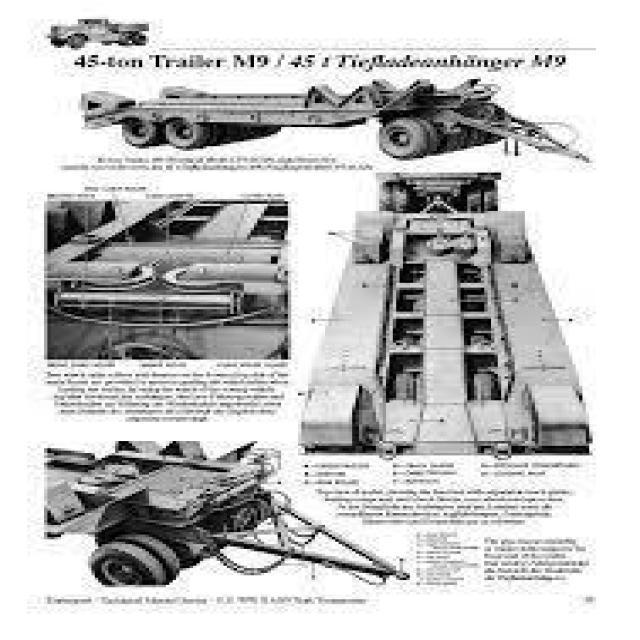MIL_MBT: (318, 169, 562, 452), (59, 442, 401, 624)
